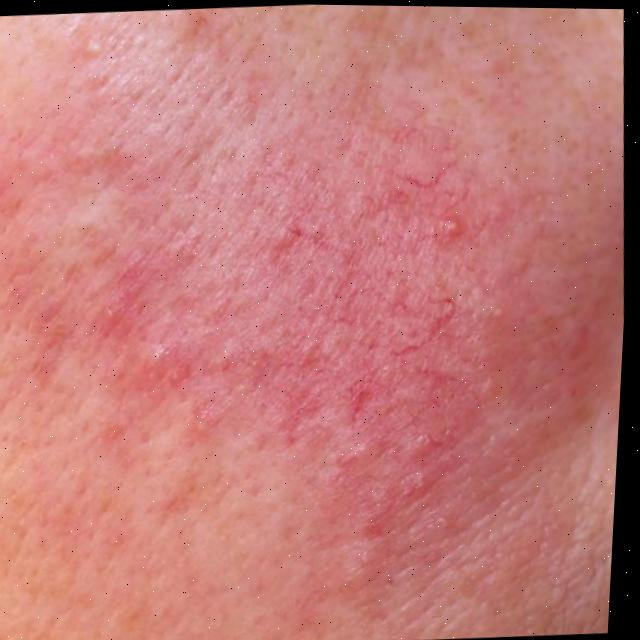Rosacea: (14, 76, 597, 573)
